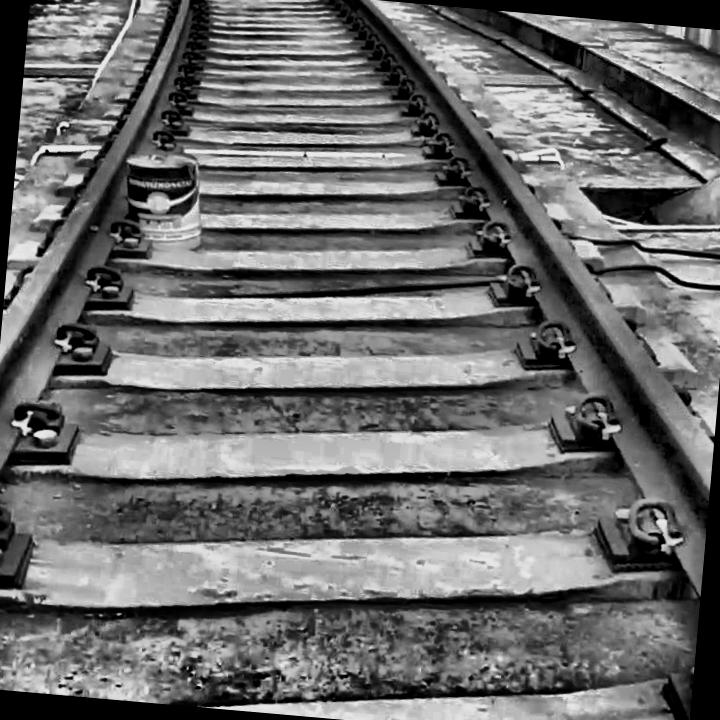Trash: (93, 116, 234, 264)
